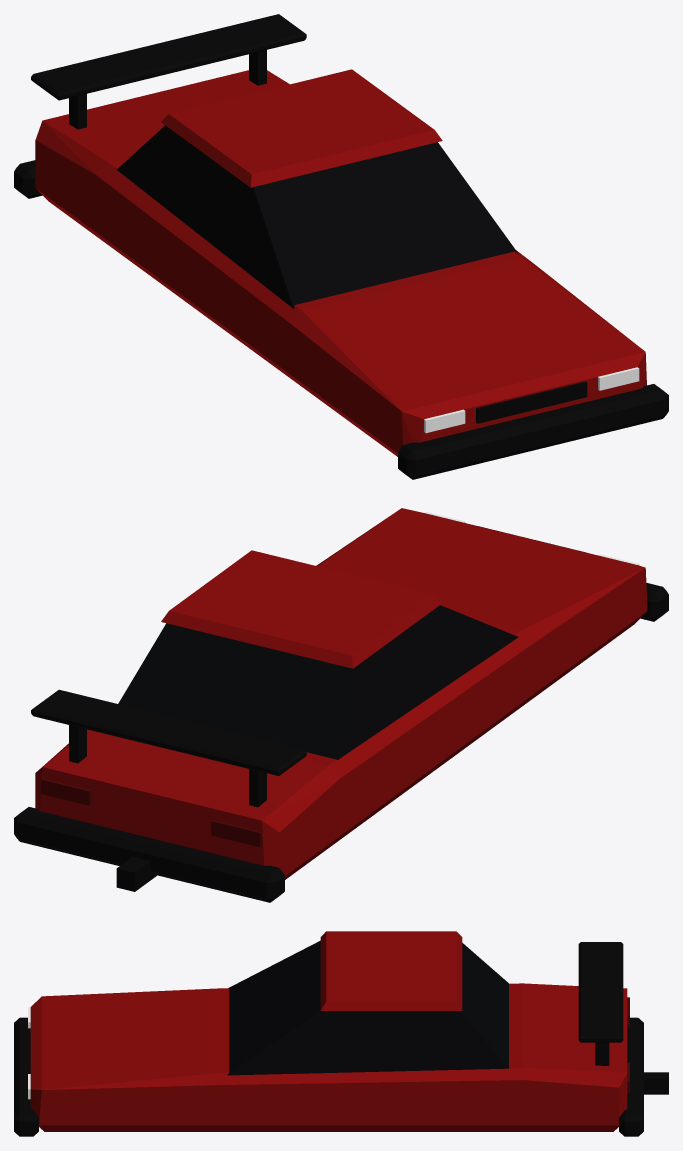
The model's file is Car.obj.
3 views of the same model, one above another, from view 1: azimuth 30°, elevation 25°; view 2: azimuth 150°, elevation 25°; view 3: azimuth 270°, elevation 25° (orthographic). The views are drawn at different scales.
Visible parts, largest first — view 1: Body, Glass, Trim, Headlights; view 2: Body, Glass, Trim, Taillights; view 3: Body, Glass, Trim.
Part boxes in pixels (bbox=[...]): Body: bbox=[35, 69, 646, 456]; Glass: bbox=[117, 125, 518, 308]; Trim: bbox=[14, 14, 668, 479]; Headlights: bbox=[424, 367, 639, 433]; Body: bbox=[35, 508, 647, 879]; Glass: bbox=[118, 605, 518, 759]; Trim: bbox=[14, 526, 668, 902]; Taillights: bbox=[40, 778, 261, 847]; Body: bbox=[30, 931, 627, 1131]; Glass: bbox=[227, 940, 508, 1075]; Trim: bbox=[14, 942, 668, 1136].
Size of the model in its own units: 1.72 by 0.99 by 4.72.
